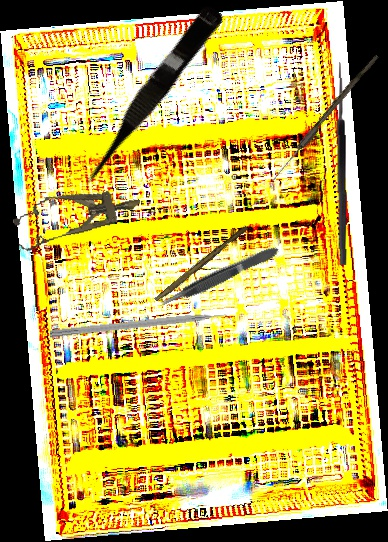Chopper: (49, 310, 237, 348)
Hook Surgical: (325, 61, 348, 266)
Micro Scissor: (72, 0, 226, 192)
Scalpel Handle: (154, 223, 249, 305)
Speculum: (9, 176, 146, 256)
Surgical Spoon: (270, 52, 379, 184)
Tissue Forceps: (155, 243, 283, 312)
